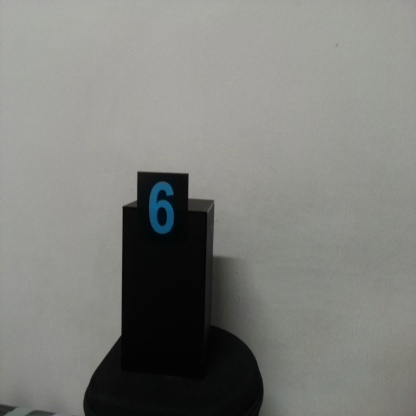id_6: (136, 171, 189, 253)
